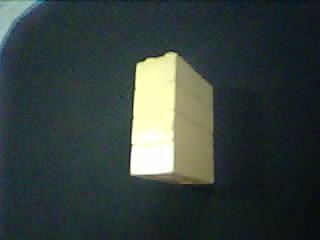lego: (129, 50, 216, 188)
